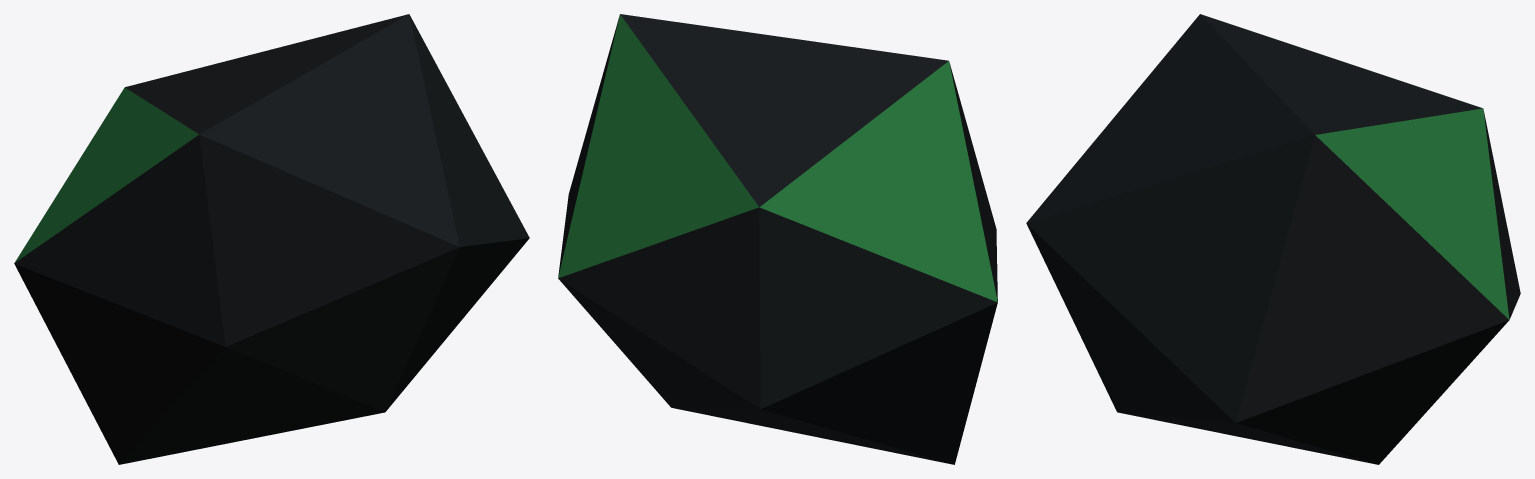
The model's file is SM_Debris_RockA.fbx.
3 views of the same model, side by side, from view 1: azimuth 30°, elevation 25°; view 2: azimuth 150°, elevation 25°; view 3: azimuth 270°, elevation 25° (orthographic). The views are drawn at different scales.
Parts seen in each view (by area): view 1: SM_Debris_RockA; view 2: SM_Debris_RockA; view 3: SM_Debris_RockA.
Boxes of the visible parts, box(x1,y1,x2,y2) form: SM_Debris_RockA: box(14, 14, 529, 464); SM_Debris_RockA: box(558, 14, 997, 464); SM_Debris_RockA: box(1026, 14, 1520, 464).
Bounding box in the file's own units: 0.9758 × 0.7383 × 0.8152.
